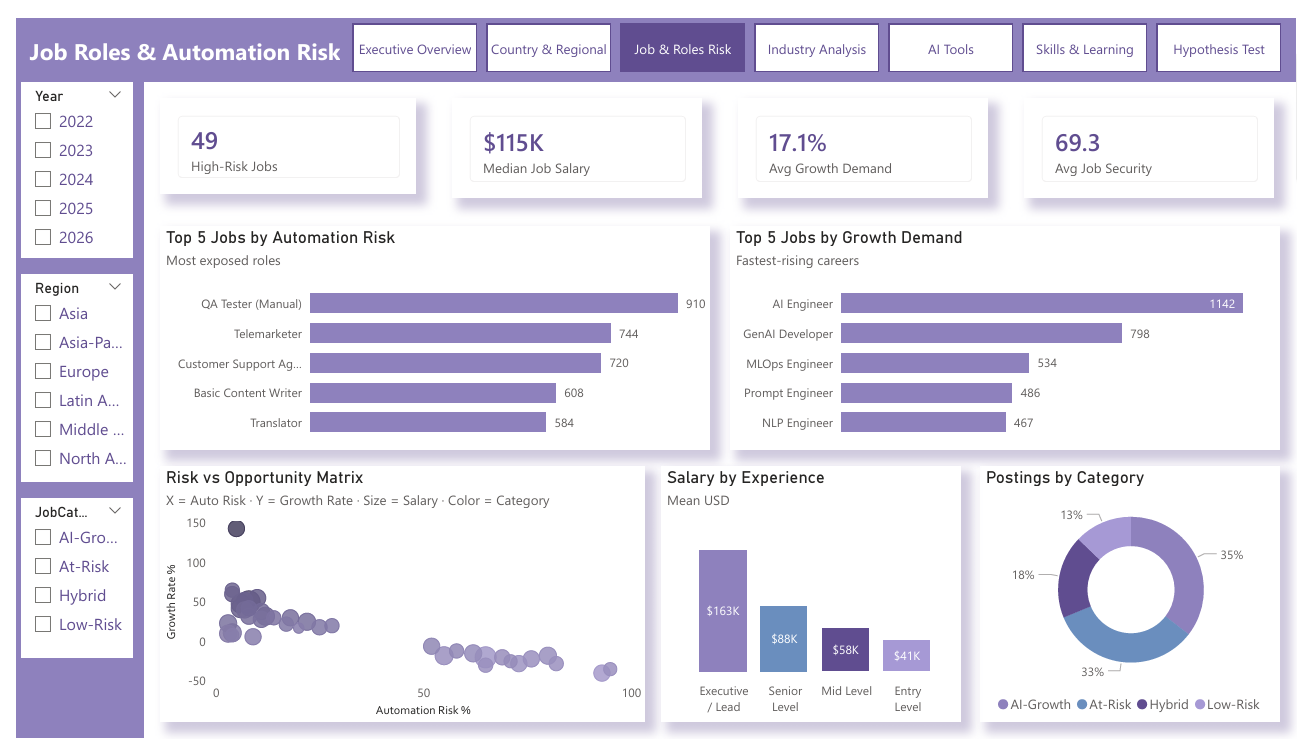

This screenshot's page, from the dashboard's own definition file:
{"tool":"powerbi","page":{"name":"Job & Roles Risk","canvas":[1280,720],"ordinal":2},"visuals":[{"type":"shape","box":[0,0,1280,64],"z":0},{"type":"shape","box":[0,64,128,656],"z":1000},{"type":"cardVisual","fields":{"Data":["Measure.Avg Job Security"]},"box":[1008,80,250,100],"z":2000},{"type":"cardVisual","fields":{"Data":["Measure.High-Risk Jobs"]},"box":[144,80,256,96],"z":3000},{"type":"cardVisual","fields":{"Data":["Measure.Avg Growth Demand"]},"box":[722,80,250,100],"z":4000},{"type":"cardVisual","fields":{"Data":["Measure.Median Job Salary"]},"box":[436,80,250,100],"z":5000},{"type":"clusteredBarChart","title":"Top 5 Jobs by Automation Risk","fields":{"Category":["Fact_JobsAI.JobTitle"],"Y":["Sum(Fact_JobsAI.Job_AutoRisk%)"]},"box":[144,208,550,224],"z":6000},{"type":"clusteredBarChart","title":"Top 5 Jobs by Growth Demand","fields":{"Category":["Fact_JobsAI.JobTitle"],"Y":["Sum(Fact_JobsAI.GrowthDemand%)"]},"box":[714,208,550,224],"z":7000},{"type":"donutChart","title":"Postings by Category","fields":{"Category":["Fact_JobsAI.JobCategory"],"Y":["Sum(Fact_JobsAI.JobPostingsCount)"]},"box":[964,448,300,256],"z":8000},{"type":"scatterChart","title":"Risk vs Opportunity Matrix","fields":{"Y":["Fact_JobsAI.Job_GrowthRate%"],"X":["Fact_JobsAI.Job_AutoRisk%"],"Size":["CountNonNull(Fact_JobsAI.JobTitle)"]},"box":[144,448,485,256],"z":9000},{"type":"columnChart","title":"Salary by Experience","fields":{"Category":["Fact_JobsAI.ExperienceLevel"],"Series":["Fact_JobsAI.ExperienceLevel"],"Y":["Avg(Fact_JobsAI.AnnualSalaryUSD)"]},"box":[645,448,300,256],"z":10000},{"type":"slicer","fields":{"Values":["Dim_Date.Year"]},"box":[5,64,112,176],"z":11000},{"type":"slicer","fields":{"Values":["Fact_JobsAI.Region"]},"box":[5,256,112,208],"z":12000},{"type":"slicer","fields":{"Values":["Fact_JobsAI.JobCategory"]},"box":[5,480,112,160],"z":13000},{"type":"shape","box":[0,0,336,64],"z":15000},{"type":"pageNavigator","box":[336,5,928,48],"z":15001}]}

Visuals, with their boxes in screenshot pixels (x1, y1, x2, y2), scaled from the page's 1280x720 canvas onto the 1313x755 screenshot:
shape: <bbox>0, 0, 1312, 67</bbox>
shape: <bbox>0, 67, 131, 754</bbox>
cardVisual - Measure.Avg Job Security: <bbox>1034, 84, 1290, 189</bbox>
cardVisual - Measure.High-Risk Jobs: <bbox>148, 84, 410, 185</bbox>
cardVisual - Measure.Avg Growth Demand: <bbox>741, 84, 997, 189</bbox>
cardVisual - Measure.Median Job Salary: <bbox>447, 84, 704, 189</bbox>
"Top 5 Jobs by Automation Risk" clusteredBarChart: <bbox>148, 218, 712, 453</bbox>
"Top 5 Jobs by Growth Demand" clusteredBarChart: <bbox>732, 218, 1297, 453</bbox>
"Postings by Category" donutChart: <bbox>989, 470, 1297, 738</bbox>
"Risk vs Opportunity Matrix" scatterChart: <bbox>148, 470, 645, 738</bbox>
"Salary by Experience" columnChart: <bbox>662, 470, 969, 738</bbox>
slicer - Dim_Date.Year: <bbox>5, 67, 120, 252</bbox>
slicer - Fact_JobsAI.Region: <bbox>5, 268, 120, 487</bbox>
slicer - Fact_JobsAI.JobCategory: <bbox>5, 503, 120, 671</bbox>
shape: <bbox>0, 0, 345, 67</bbox>
pageNavigator: <bbox>345, 5, 1297, 56</bbox>
